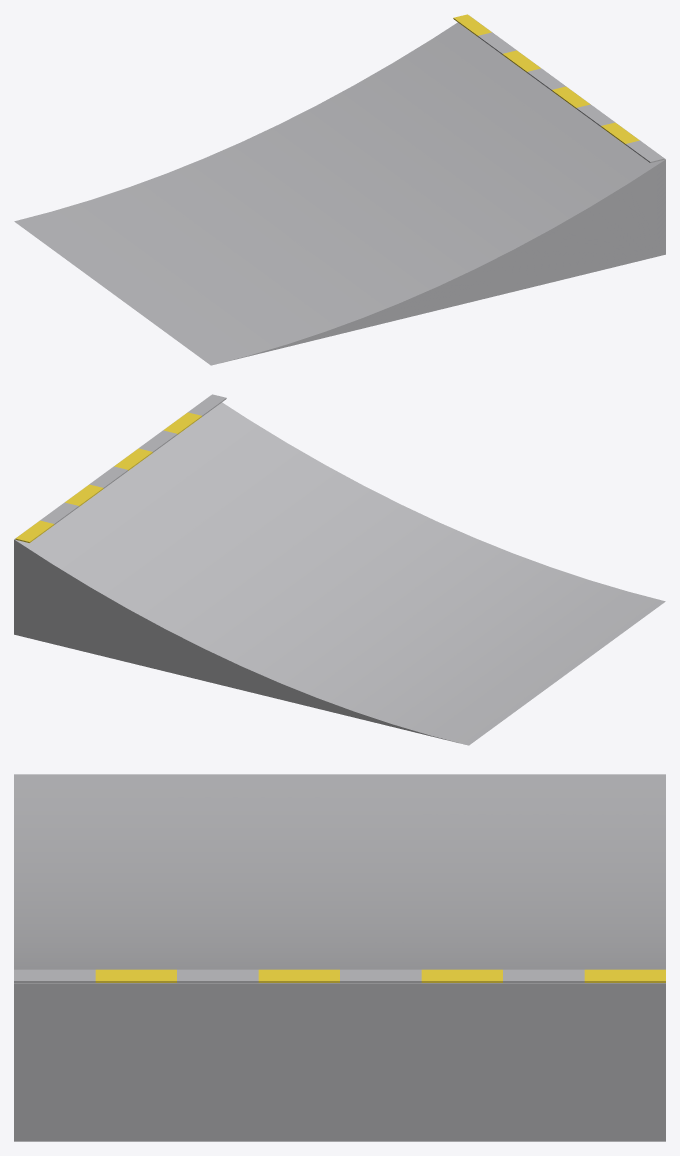
The model's file is SM_JumpRamp.fbx.
3 renders of one model, top to bottom at view 1: azimuth 30°, elevation 25°; view 2: azimuth 150°, elevation 25°; view 3: azimuth 270°, elevation 25°, orthographic. The views are drawn at different scales.
Parts seen in each view (by area): view 1: SM_JumpRamp; view 2: SM_JumpRamp; view 3: SM_JumpRamp.
Boxes of the visible parts, x1=… form: SM_JumpRamp: x1=14, y1=14, x2=665, y2=365; SM_JumpRamp: x1=14, y1=394, x2=665, y2=745; SM_JumpRamp: x1=14, y1=774, x2=665, y2=1141.
Bounding box in the file's own units: 800 × 162 × 600.
